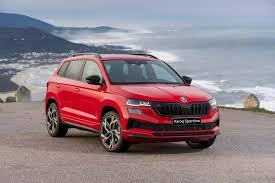skoda: (180, 94, 188, 103)
